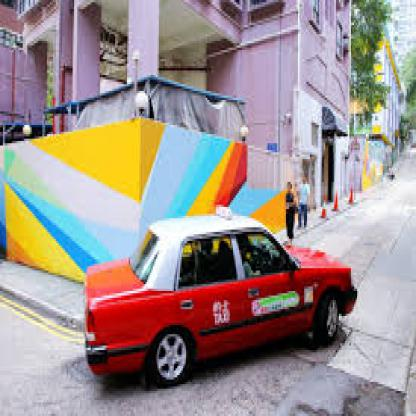taxi: (80, 201, 360, 390)
